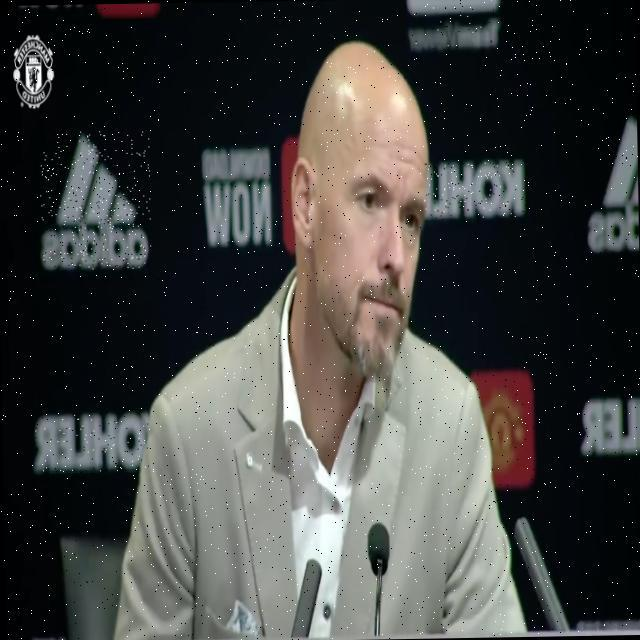Adidas: (39, 130, 151, 270)
Kohler: (33, 411, 148, 473), (423, 161, 523, 219)
TeamViewer: (406, 0, 499, 48)
